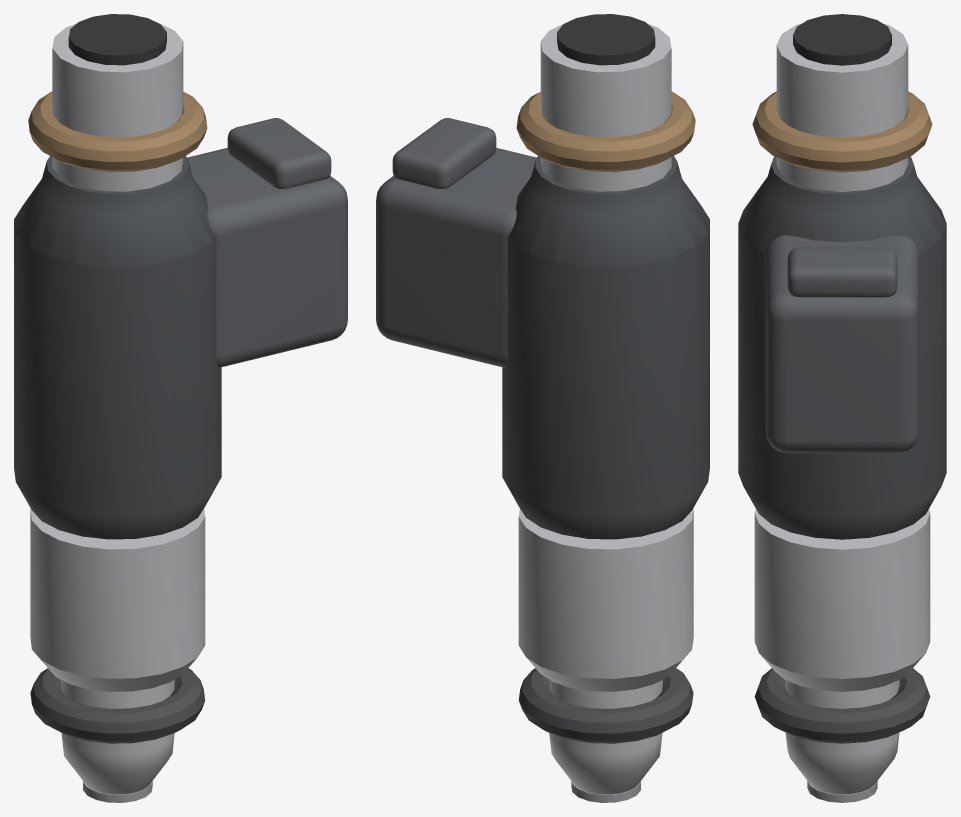
The model's file is fuel_injector.glb.
The picture shows the model from 3 angles, left to right: view 1: azimuth 30°, elevation 25°; view 2: azimuth 150°, elevation 25°; view 3: azimuth 270°, elevation 25°; orthographic projection.
Visible parts, largest first — view 1: body, metal_body, connector, inlet, o_ring_top, o_ring_bottom, nozzle; view 2: body, metal_body, connector, inlet, o_ring_top, o_ring_bottom, nozzle; view 3: body, connector, metal_body, inlet, o_ring_top, o_ring_bottom, nozzle.
Part boxes in pixels (left/top/right/bottom): body: left=14, top=156, right=221, bottom=539; metal_body: left=30, top=508, right=205, bottom=794; connector: left=187, top=118, right=347, bottom=367; inlet: left=52, top=14, right=183, bottom=191; o_ring_top: left=28, top=91, right=207, bottom=172; o_ring_bottom: left=30, top=668, right=205, bottom=743; nozzle: left=83, top=781, right=152, bottom=802; body: left=502, top=156, right=709, bottom=539; metal_body: left=518, top=508, right=693, bottom=794; connector: left=376, top=118, right=536, bottom=367; inlet: left=540, top=14, right=671, bottom=191; o_ring_top: left=516, top=91, right=695, bottom=172; o_ring_bottom: left=518, top=668, right=693, bottom=743; nozzle: left=571, top=781, right=640, bottom=802; body: left=738, top=156, right=946, bottom=539; connector: left=765, top=235, right=919, bottom=453; metal_body: left=754, top=509, right=930, bottom=794; inlet: left=776, top=14, right=908, bottom=191; o_ring_top: left=752, top=91, right=932, bottom=172; o_ring_bottom: left=754, top=668, right=930, bottom=743; nozzle: left=807, top=781, right=877, bottom=802.
Size of the model in its own units: 30.5 by 76 by 19.
